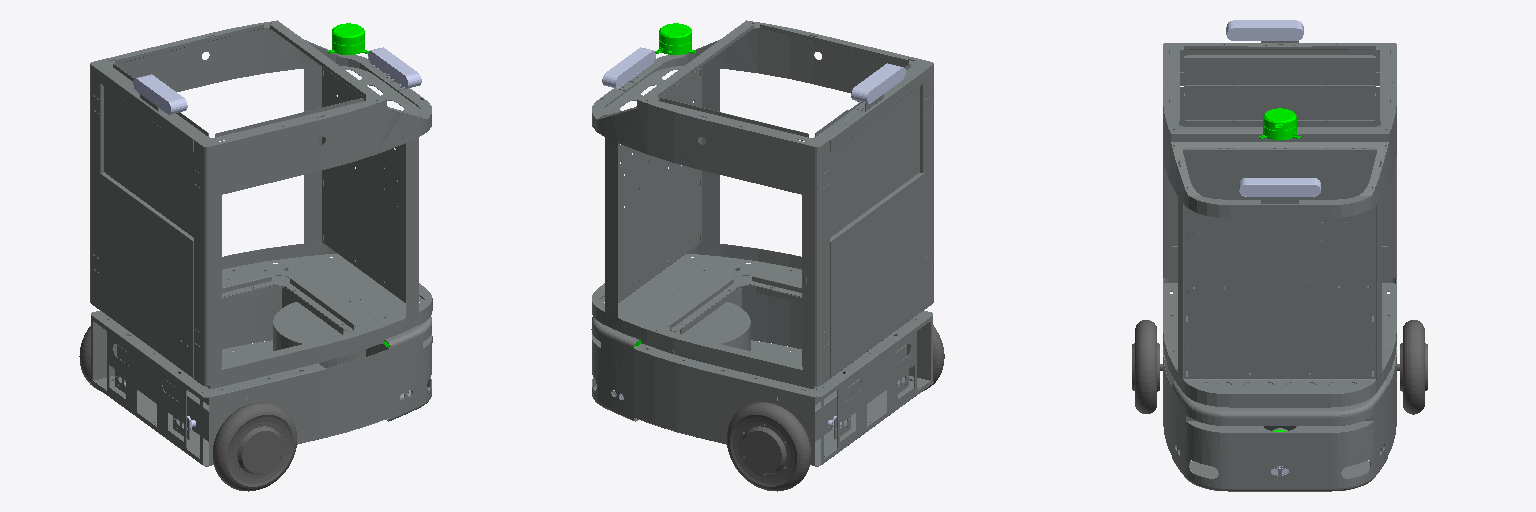
URDF robot description (raybot):
<robot name="raybot">
  <link name="base_footprint">
    <!-- inertial>
      <origin xyz="0 0 0" rpy="0 0 0" />
      <mass value="0.0002" />
      <inertia ixx="0" ixy="0" ixz="0" iyy="0" iyz="0" izz="0" />
    </inertial -->
    <visual>
      <origin xyz="0 0 0" rpy="0 0 0" />
      <geometry>
        <box size="0.001 0.001 0.001" />
      </geometry>
      <material name=""> <color rgba="1 1 1 1" /> </material>
    </visual>
    <collision>
      <origin xyz="0 0 0" rpy="0 0 0" />
      <geometry>
        <box size="0.001 0.001 0.001" />
      </geometry>
    </collision>
  </link>

  <link
    name="base_link">
    <inertial>
      <origin
              xyz="-0.0143263366885265 0.000627247163478381 0.171792624341329"
        rpy="0 0 0" />
      <mass
        value="17.6955895950683" />
      <inertia
        ixx="0.83051019060647"
        ixy="-0.00113821949170566"
        ixz="-0.0655115659342145"
        iyy="1.15979291401644"
        iyz="0.00104164878701389"
        izz="0.37396840308188" />
    </inertial>
    <visual>
      <origin
        xyz="0 0 0"
        rpy="0 0 0" />
      <geometry>
        <mesh
          filename="package://raybot1g_description/meshes/base_link.STL" />
      </geometry>
      <material
        name="">
        <color
          rgba="0.529411764705882 0.549019607843137 0.549019607843137 1" />
      </material>
    </visual>
    <collision>
      <origin
        xyz="0 0 0"
        rpy="0 0 0" />
      <geometry>
        <mesh
          filename="package://raybot1g_description/meshes/base_link.STL" />
      </geometry>
    </collision>
  </link>

  <joint name="base_footprint_joint" type="continuous">
    <origin xyz="0 0 0" rpy="0 0 0" />
    <parent link="base_footprint" />
    <child link="base_link" />
  </joint>

  <link
    name="base_l_wheel_link">
    <inertial>
      <origin
        xyz="-3.89185717544017E-08 -0.000140570616109781 -1.51063335659951E-07"
        rpy="0 0 0" />
      <mass
        value="1.43017656624007" />
      <inertia
        ixx="0"
        ixy="0"
        ixz="0"
        iyy="0"
        iyz="0"
        izz="0" />
    </inertial>
    <visual>
      <origin
        xyz="0 0 0"
        rpy="0 0 0" />
      <geometry>
        <mesh
          filename="package://raybot1g_description/meshes/base_l_wheel_link.STL" />
      </geometry>
      <material
        name="">
        <color
          rgba="0.43921568627451 0.43921568627451 0.43921568627451 1" />
      </material>
    </visual>
    <collision>
      <origin
        xyz="0 0 0"
        rpy="0 0 0" />
      <geometry>
        <mesh
          filename="package://raybot1g_description/meshes/base_l_wheel_link.STL" />
      </geometry>
    </collision>
  </link>
  <joint
    name="base_l_wheel_joint"
    type="fixed">
    <origin
      xyz="-0.197 0.286 -0.042562"
      rpy="0 0 0" />
    <parent
      link="base_link" />
    <child
      link="base_l_wheel_link" />
    <axis
      xyz="0 0 0" />
  </joint>
  <link
    name="base_r_wheel_link">
    <inertial>
      <origin
        xyz="3.89185717572793E-08 0.000140570616109781 -1.5106333566689E-07"
        rpy="0 0 0" />
      <mass
        value="1.43017656624007" />
      <inertia
        ixx="0"
        ixy="0"
        ixz="0"
        iyy="0"
        iyz="0"
        izz="0" />
    </inertial>
    <visual>
      <origin
        xyz="0 0 0"
        rpy="0 0 0" />
      <geometry>
        <mesh
          filename="package://raybot1g_description/meshes/base_r_wheel_link.STL" />
      </geometry>
      <material
        name="">
        <color
          rgba="0.43921568627451 0.43921568627451 0.43921568627451 1" />
      </material>
    </visual>
    <collision>
      <origin
        xyz="0 0 0"
        rpy="0 0 0" />
      <geometry>
        <mesh
          filename="package://raybot1g_description/meshes/base_r_wheel_link.STL" />
      </geometry>
    </collision>
  </link>
  <joint
    name="base_r_wheel_joint"
    type="fixed">
    <origin
      xyz="-0.197 -0.286 -0.042562"
      rpy="0 0 0" />
    <parent
      link="base_link" />
    <child
      link="base_r_wheel_link" />
    <axis
      xyz="0 0 0" />
  </joint>
  <link
    name="gyro_link">
    <inertial>
      <origin
        xyz="-1.03548445011036E-07 3.46343714207103E-05 0.0113079571351998"
        rpy="0 0 0" />
      <mass
        value="0.251848872004252" />
      <inertia
        ixx="0"
        ixy="0"
        ixz="0"
        iyy="0"
        iyz="0"
        izz="0" />
    </inertial>
    <visual>
      <origin
        xyz="0 0 0"
        rpy="0 0 0" />
      <geometry>
        <mesh
          filename="package://raybot1g_description/meshes/gyro_link.STL" />
      </geometry>
      <material
        name="">
        <color
          rgba="0.2 0.2 0.2 1" />
      </material>
    </visual>
    <collision>
      <origin
        xyz="0 0 0"
        rpy="0 0 0" />
      <geometry>
        <mesh
          filename="package://raybot1g_description/meshes/gyro_link.STL" />
      </geometry>
    </collision>
  </link>
  <joint
    name="gyro_joint"
    type="fixed">
    <origin
      xyz="-0.197 5E-05 -0.0085"
      rpy="0 0 0" />
    <parent
      link="base_link" />
    <child
      link="gyro_link" />
    <axis
      xyz="0 0 0" />
  </joint>
  <link
    name="laser">
    <inertial>
      <origin
        xyz="-0.000268699219537927 0.000252725288736464 -0.00614126647856833"
        rpy="0 0 0" />
      <mass
        value="0.0457566473646556" />
      <inertia
        ixx="1.21864909731732E-05"
        ixy="-2.89204785363876E-07"
        ixz="3.71399335205594E-07"
        iyy="1.18703149810334E-05"
        iyz="2.01158348301941E-07"
        izz="2.59637484612055E-06" />
    </inertial>
    <visual>
      <origin
        xyz="0 0 0"
        rpy="0 0 0" />
      <geometry>
        <mesh
          filename="package://raybot1g_description/meshes/laser.STL" />
      </geometry>
      <material
        name="">
        <color
          rgba="0 1 0 1" />
      </material>
    </visual>
    <collision>
      <origin
        xyz="0 0 0"
        rpy="0 0 0" />
      <geometry>
        <mesh
          filename="package://raybot1g_description/meshes/laser.STL" />
      </geometry>
    </collision>
  </link>
  <joint
    name="laser_joint"
    type="fixed">
    <origin
      xyz="0.2 0. 0.72"
      rpy="0 0 0" />
    <parent
      link="base_link" />
    <child
      link="laser" />
    <axis
      xyz="0 0 0" />
  </joint>


  <link
    name="laser_obs">
    <inertial>
      <origin
        xyz="-0.000268699219537927 0.000252725288736464 -0.00614126647856833"
        rpy="0 0 0" />
      <mass
        value="0.0457566473646556" />
      <inertia
        ixx="1.21864909731732E-05"
        ixy="-2.89204785363876E-07"
        ixz="3.71399335205594E-07"
        iyy="1.18703149810334E-05"
        iyz="2.01158348301941E-07"
        izz="2.59637484612055E-06" />
    </inertial>
    <visual>
      <origin
        xyz="0 0 0"
        rpy="0 0 0" />
      <geometry>
        <mesh
          filename="package://raybot1g_description/meshes/laser.STL" />
      </geometry>
      <material
        name="">
        <color
          rgba="0 1 0 1" />
      </material>
    </visual>
    <collision>
      <origin
        xyz="0 0 0"
        rpy="0 0 0" />
      <geometry>
        <mesh
          filename="package://raybot1g_description/meshes/laser.STL" />
      </geometry>
    </collision>
  </link>
  <joint
    name="laser_obs_joint"
    type="fixed">
    <origin
      xyz="0.28424 0. 0."
      rpy="0 0 0" />
    <parent
      link="base_link" />
    <child
      link="laser_obs" />
    <axis
      xyz="0 0 0" />
  </joint>


  <link
    name="camera_link">
    <inertial>
      <origin
        xyz="0.016497432085295 -2.14929031366331E-10 1.60977127017237E-05"
        rpy="0 0 0" />
      <mass
        value="0.16189477228834" />
      <inertia
        ixx="0"
        ixy="0"
        ixz="0"
        iyy="0"
        iyz="0"
        izz="0" />
    </inertial>
    <visual>
      <origin
        xyz="0 0 0"
        rpy="0 0 0" />
      <geometry>
        <mesh
          filename="package://raybot1g_description/meshes/sm_link.STL" />
      </geometry>
      <material
        name="">
        <color
          rgba="0.792156862745098 0.819607843137255 0.933333333333333 1" />
      </material>
    </visual>
    <collision>
      <origin
        xyz="0 0 0"
        rpy="0 0 0" />
      <geometry>
        <mesh
          filename="package://raybot1g_description/meshes/sm_link.STL" />
      </geometry>
    </collision>
  </link>
  <joint
    name="sm_joint"
    type="fixed">
    <origin
      xyz="0.29875 0 0.6206"
      rpy="0 0 0" />
    <parent
      link="base_link" />
    <child
      link="camera_link" />
    <axis
      xyz="0 0 0" />
  </joint>
  <link
    name="rgbd_link">
    <inertial>
      <origin
        xyz="0.0200043686999727 1.47878400063445E-16 8.28617646997376E-06"
        rpy="0 0 0" />
      <mass
        value="0.190025834664389" />
      <inertia
        ixx="0"
        ixy="0"
        ixz="0"
        iyy="0"
        iyz="0"
        izz="0" />
    </inertial>
    <visual>
      <origin
        xyz="0 0 0"
        rpy="0 0 0" />
      <geometry>
        <mesh
          filename="package://raybot1g_description/meshes/rgbd_link.STL" />
      </geometry>
      <material
        name="">
        <color
          rgba="0.792156862745098 0.819607843137255 0.933333333333333 1" />
      </material>
    </visual>
    <collision>
      <origin
        xyz="0 0 0"
        rpy="0 0 0" />
      <geometry>
        <mesh
          filename="package://raybot1g_description/meshes/rgbd_link.STL" />
      </geometry>
    </collision>
  </link>
  <joint
    name="rgbd_joint"
    type="fixed">
    <origin
      xyz="-0.305 -0.032 0.7106"
      rpy="0 0 0" />
    <parent
      link="base_link" />
    <child
      link="rgbd_link" />
    <axis
      xyz="0 0 0" />
  </joint>












  <link
    name="base_l_range_link">
    <inertial>
      <origin
        xyz="-0.00525932647848866 0.00016009346528327 0.000243458124226274"
        rpy="0 0 0" />
      <mass
        value="0.00697309781940306" />
      <inertia
        ixx="0"
        ixy="0"
        ixz="0"
        iyy="0"
        iyz="0"
        izz="0" />
    </inertial>
    <visual>
      <origin
        xyz="0 0 0"
        rpy="0 0 0" />
      <geometry>
        <mesh
          filename="package://raybot1g_description/meshes/base_l_range_link.STL" />
      </geometry>
      <material
        name="">
        <color
          rgba="0.792156862745098 0.819607843137255 0.933333333333333 1" />
      </material>
    </visual>
    <collision>
      <origin
        xyz="0 0 0"
        rpy="0 0 0" />
      <geometry>
        <mesh
          filename="package://raybot1g_description/meshes/base_l_range_link.STL" />
      </geometry>
    </collision>
  </link>

  <joint
    name="base_l_range_joint"
    type="fixed">
    <origin
      xyz="-0.2738 0.125 -0.032"
      rpy="0 0 3.1415926" />
    <parent
      link="base_link" />
    <child
      link="base_l_range_link" />
    <axis
      xyz="0 0 0" />
  </joint>
  
  <link
    name="base_r_range_link">
    <inertial>
      <origin
        xyz="-0.00525932647848866 0.000160093465283256 0.000243458124226281"
        rpy="0 0 0" />
      <mass
        value="0.00697309781940306" />
      <inertia
        ixx="0"
        ixy="0"
        ixz="0"
        iyy="0"
        iyz="0"
        izz="0" />
    </inertial>
    <visual>
      <origin
        xyz="0 0 0"
        rpy="0 0 0" />
      <geometry>
        <mesh
          filename="package://raybot1g_description/meshes/base_r_range_link.STL" />
      </geometry>
      <material
        name="">
        <color
          rgba="0.792156862745098 0.819607843137255 0.933333333333333 1" />
      </material>
    </visual>
    <collision>
      <origin
        xyz="0 0 0"
        rpy="0 0 0" />
      <geometry>
        <mesh
          filename="package://raybot1g_description/meshes/base_r_range_link.STL" />
      </geometry>
    </collision>
  </link>
  
  <joint
    name="base_r_range_joint"
    type="fixed">
    <origin
      xyz="-0.273799999999998 -0.125000000000003 -0.0320000000000025"
      rpy="0 0 3.1415926" />
    <parent
      link="base_link" />
    <child
      link="base_r_range_link" />
    <axis
      xyz="0 0 0" />
  </joint>

  <link
    name="base_lf_range_link">
    <inertial>
      <origin
        xyz="-0.00525932647848866 0.00016009346528327 0.000243458124226274"
        rpy="0 0 0" />
      <mass
        value="0.00697309781940306" />
      <inertia
        ixx="0"
        ixy="0"
        ixz="0"
        iyy="0"
        iyz="0"
        izz="0" />
    </inertial>
    <visual>
      <origin
        xyz="0 0 0"
        rpy="0 0 0" />
      <geometry>
        <mesh
          filename="package://raybot1g_description/meshes/base_l_range_link.STL" />
      </geometry>
      <material
        name="">
        <color
          rgba="0.792156862745098 0.819607843137255 0.933333333333333 1" />
      </material>
    </visual>
    <collision>
      <origin
        xyz="0 0 0"
        rpy="0 0 0" />
      <geometry>
        <mesh
          filename="package://raybot1g_description/meshes/base_l_range_link.STL" />
      </geometry>
    </collision>
  </link>

  <joint
    name="base_lf_range_joint"
    type="fixed">
    <origin
      xyz="0.215 0.21 -0.042562"
      rpy="0 0 1.5707963" />
    <parent
      link="base_link" />
    <child
      link="base_lf_range_link" />
    <axis
      xyz="0 0 0" />
  </joint>

  <link
    name="base_rf_range_link">
    <inertial>
      <origin
        xyz="-0.00525932647848866 0.00016009346528327 0.000243458124226274"
        rpy="0 0 0" />
      <mass
        value="0.00697309781940306" />
      <inertia
        ixx="0"
        ixy="0"
        ixz="0"
        iyy="0"
        iyz="0"
        izz="0" />
    </inertial>
    <visual>
      <origin
        xyz="0 0 0"
        rpy="0 0 0" />
      <geometry>
        <mesh
          filename="package://raybot1g_description/meshes/base_r_range_link.STL" />
      </geometry>
      <material
        name="">
        <color
          rgba="0.792156862745098 0.819607843137255 0.933333333333333 1" />
      </material>
    </visual>
    <collision>
      <origin
        xyz="0 0 0"
        rpy="0 0 0" />
      <geometry>
        <mesh
          filename="package://raybot1g_description/meshes/base_r_range_link.STL" />
      </geometry>
    </collision>
  </link>

  <joint
    name="base_rf_range_joint"
    type="fixed">
    <origin
      xyz="0.215 -0.21 -0.042562"
      rpy="0 0 -1.5707963" />
    <parent
      link="base_link" />
    <child
      link="base_rf_range_link" />
    <axis
      xyz="0 0 0" />
  </joint>

  <link
    name="base_f_range_link">
    <inertial>
      <origin
        xyz="-0.00525932647848866 0.00016009346528327 0.000243458124226274"
        rpy="0 0 0" />
      <mass
        value="0.00697309781940306" />
      <inertia
        ixx="0"
        ixy="0"
        ixz="0"
        iyy="0"
        iyz="0"
        izz="0" />
    </inertial>
    <visual>
      <origin
        xyz="0 0 0"
        rpy="0 0 0" />
      <geometry>
        <mesh
          filename="package://raybot1g_description/meshes/base_r_range_link.STL" />
      </geometry>
      <material
        name="">
        <color
          rgba="0.792156862745098 0.819607843137255 0.933333333333333 1" />
      </material>
    </visual>
    <collision>
      <origin
        xyz="0 0 0"
        rpy="0 0 0" />
      <geometry>
        <mesh
          filename="package://raybot1g_description/meshes/base_r_range_link.STL" />
      </geometry>
    </collision>
  </link>

  <joint
    name="base_f_range_joint"
    type="fixed">
    <origin
      xyz="0.325 0 -0.042562"
      rpy="0 0 0" />
    <parent
      link="base_link" />
    <child
      link="base_f_range_link" />
    <axis
      xyz="0 0 0" />
  </joint>













  <link
    name="camera_color_optical_frame">
    <inertial>
      <origin
        xyz="0.0200043686999727 1.47878400063445E-16 8.28617646997376E-06"
        rpy="0 0 0" />
      <mass value="0.190025834664389" />
      <inertia ixx="0" ixy="0" ixz="0" iyy="0" iyz="0" izz="0" />
    </inertial>
  </link>
  <joint name="depthimage_joint" type="fixed">
  <origin xyz="-0.305 0 0.7106" rpy="1.5707926 3.1415926 -1.5707926" />
    <parent link="base_link" />
    <child link="camera_color_optical_frame" />
    <axis xyz="0 0 0" />
  </joint>

    <link name="astra_fake_laser">
    <inertial>
      <origin
        xyz="0.0200043686999727 1.47878400063445E-16 8.28617646997376E-06"
        rpy="0 0 0" />
      <mass value="0.190025834664389" />
      <inertia ixx="0" ixy="0" ixz="0" iyy="0" iyz="0" izz="0" />
    </inertial>
  </link>
  <joint name="fake_laser_joint" type="fixed">
  <origin xyz="-0.305 0 0.7106" rpy="0 0 3.1415926" />
    <parent link="base_link" />
    <child link="astra_fake_laser" />
    <axis xyz="0 0 0" />
  </joint>

</robot>

--- Render facts (derived) ---
The picture shows the robot from 3 angles, left to right: view 1: azimuth 30°, elevation 25°; view 2: azimuth 150°, elevation 25°; view 3: azimuth 270°, elevation 25°; orthographic projection.
Robot: raybot — 16 links, 15 joints (1 continuous, 14 fixed); root link base_footprint; default pose: every joint at zero.
Visible links, largest first — view 1: base_link, base_r_wheel_link, rgbd_link, camera_link, laser; view 2: base_link, base_l_wheel_link, rgbd_link, camera_link, laser; view 3: base_link, base_l_wheel_link, base_r_wheel_link, rgbd_link, camera_link, laser.
Link boxes in pixels (<box>): base_link: <box>90,20,432,466</box>; base_r_wheel_link: <box>213,402,296,491</box>; rgbd_link: <box>133,74,187,114</box>; camera_link: <box>368,47,421,88</box>; laser: <box>328,23,368,54</box>; base_link: <box>591,20,933,466</box>; base_l_wheel_link: <box>727,402,810,491</box>; rgbd_link: <box>851,63,905,103</box>; camera_link: <box>602,47,655,88</box>; laser: <box>655,23,695,54</box>; base_link: <box>1163,41,1396,491</box>; base_l_wheel_link: <box>1397,320,1427,414</box>; base_r_wheel_link: <box>1132,320,1162,413</box>; rgbd_link: <box>1226,20,1303,40</box>; camera_link: <box>1239,178,1320,196</box>; laser: <box>1259,108,1300,140</box>.
Bounding box of the posed robot: 0.6387 × 0.632 × 0.8826 m (x, y, z).
Meshes: 9 distinct files referenced, 13 mesh visuals loaded (9 binary STL).